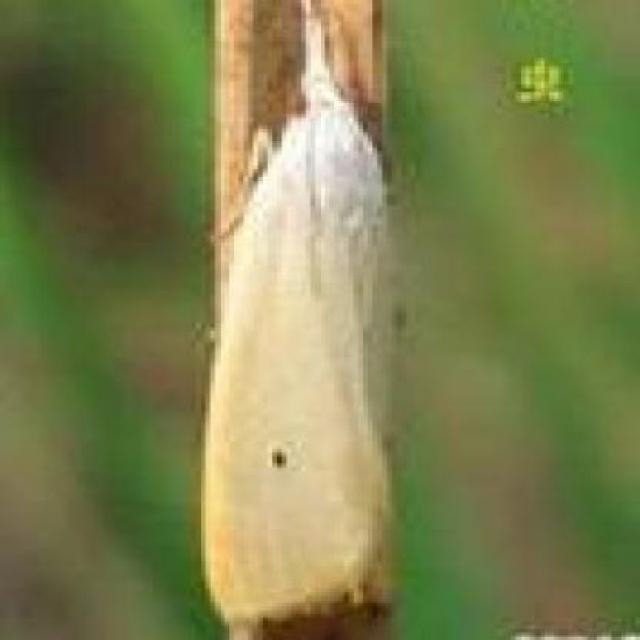stem-borer: (197, 0, 403, 632)
